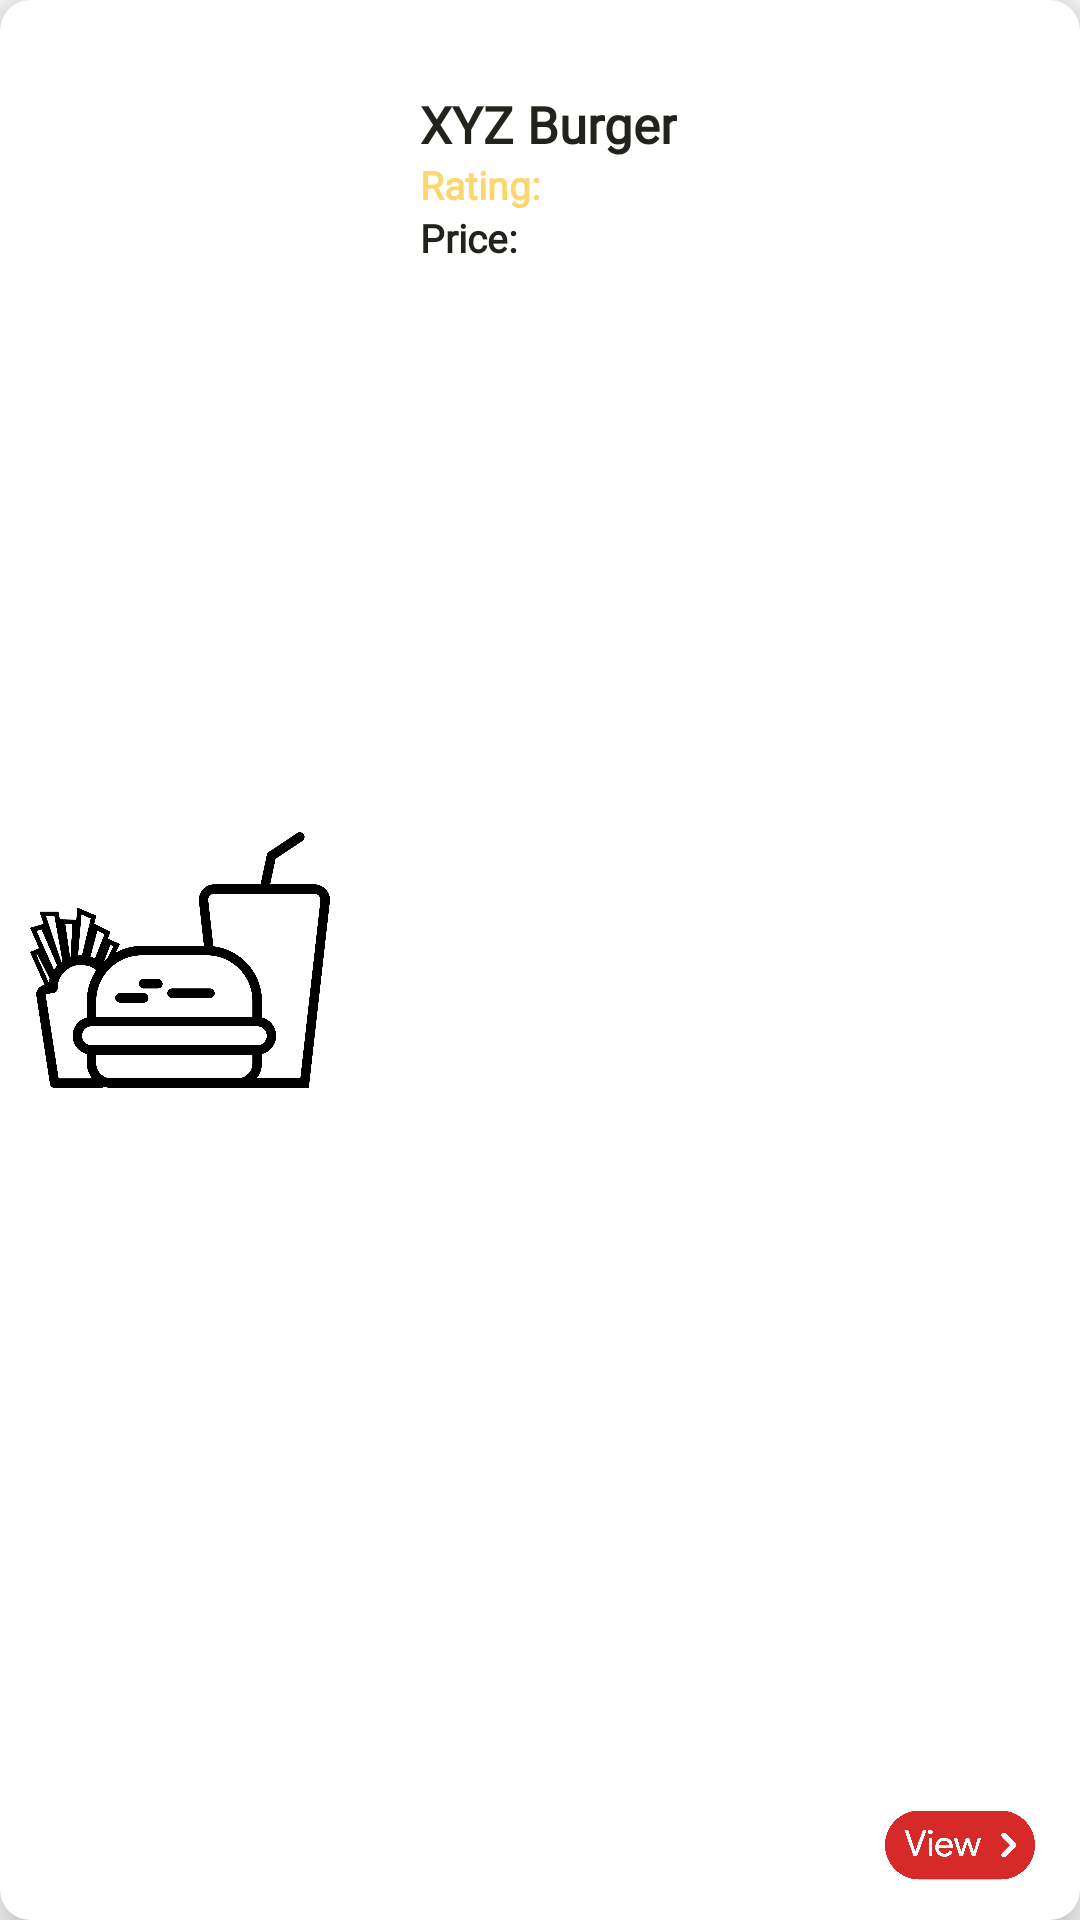

Named icons in this screenshot (1080 × 1920) and their centers, (x=x, y=y):
food menu: (x=180, y=960)
